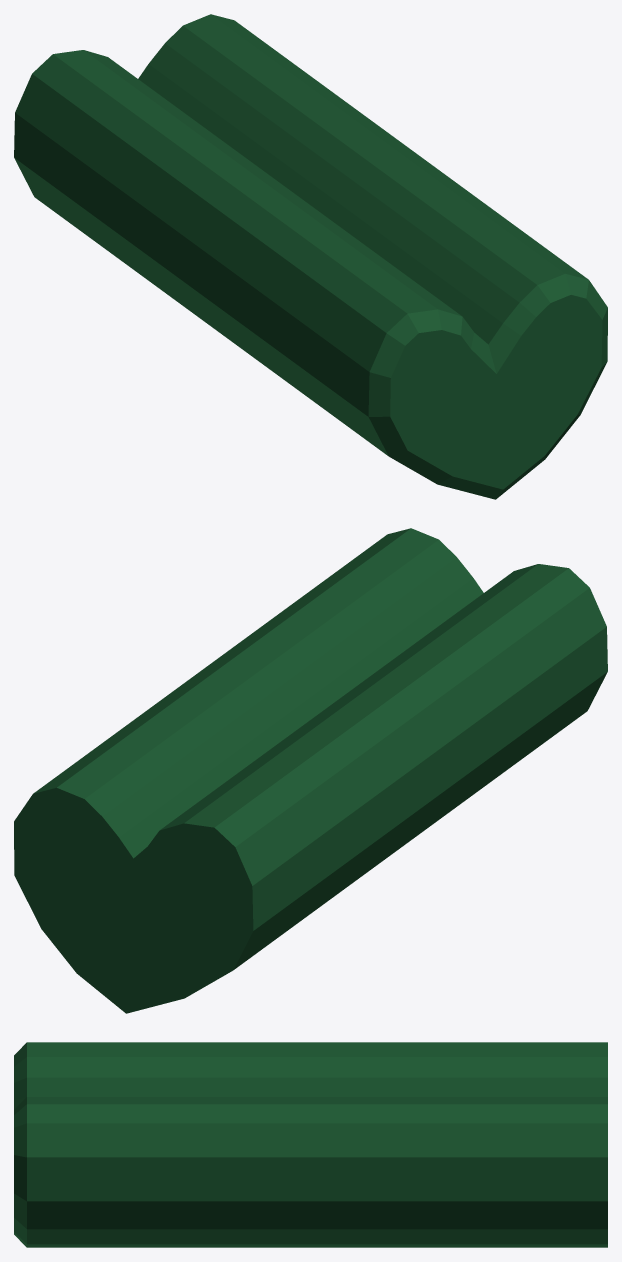
File: Heart.fbx
3 views of the same model, one above another, from view 1: azimuth 30°, elevation 25°; view 2: azimuth 150°, elevation 25°; view 3: azimuth 270°, elevation 25° (orthographic). The views are drawn at different scales.
Visible parts, largest first — view 1: Heart; view 2: Heart; view 3: Heart.
Part boxes in pixels (x1,y1,x2,y2): Heart: (14,14,607,499); Heart: (14,528,607,1013); Heart: (14,1042,607,1247).
Bounding box in the file's own units: 114 × 95.48 × 300.
